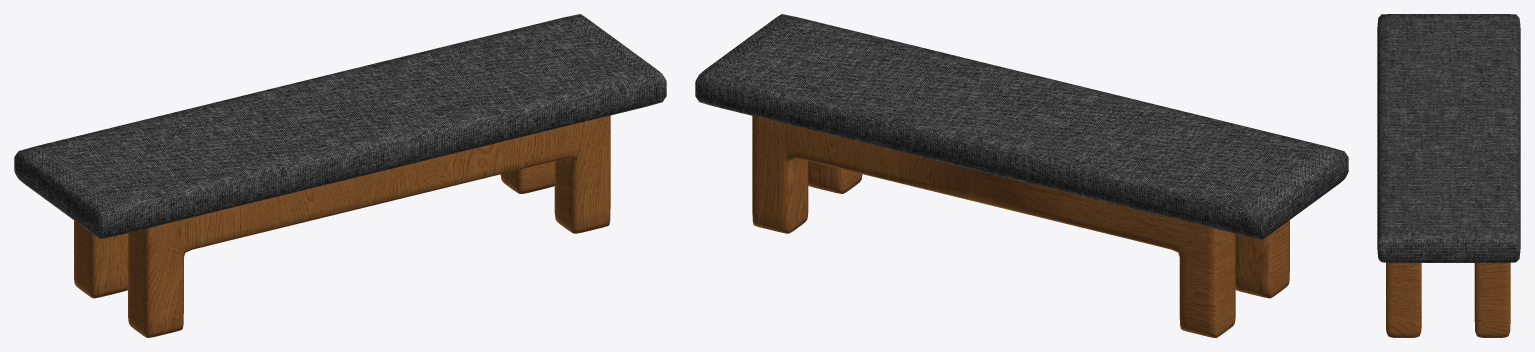
Rendered from bench_clutter.fbx.
3 renders of one model, left to right at view 1: azimuth 30°, elevation 25°; view 2: azimuth 150°, elevation 25°; view 3: azimuth 270°, elevation 25°, orthographic. The views are drawn at different scales.
Parts seen in each view (by area): view 1: Cube.002; view 2: Cube.002; view 3: Cube.002.
Boxes of the visible parts, left/top/right/bottom form: Cube.002: left=14, top=14, right=666, bottom=337; Cube.002: left=695, top=14, right=1348, bottom=337; Cube.002: left=1377, top=14, right=1520, bottom=337.
Bounding box in the file's own units: 145 × 35.63 × 38.59.
1 material, 1 textured.
